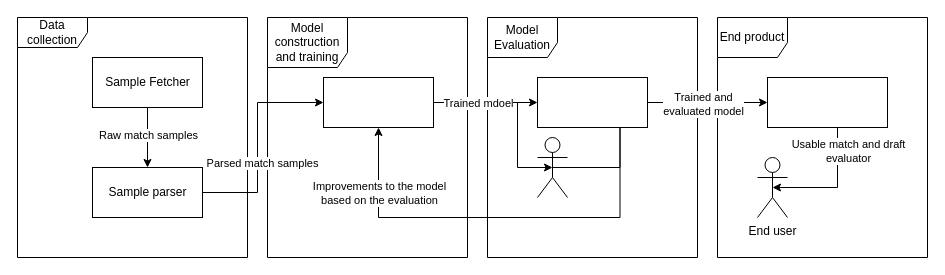
Some shapes in this 945 by 275 pixel diagram are drawn without their labels. The shapes that lost their labels are listed below. From the top down, each one's centre as x and y in pixels, then its label:
At point (378, 102): "Model Trainer".
At point (592, 102): "Model Evaluator".
At point (827, 102): "Network wrapper with user intractability".
At point (552, 167): "Internal Actor".
